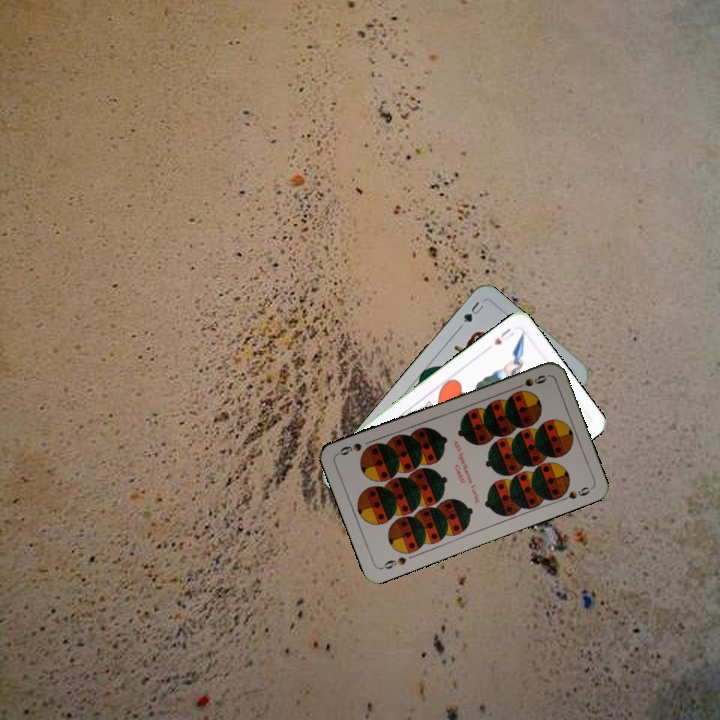GU: (459, 297, 486, 325)
HU: (489, 324, 517, 348)
S9: (511, 371, 549, 392), (377, 553, 409, 572)
